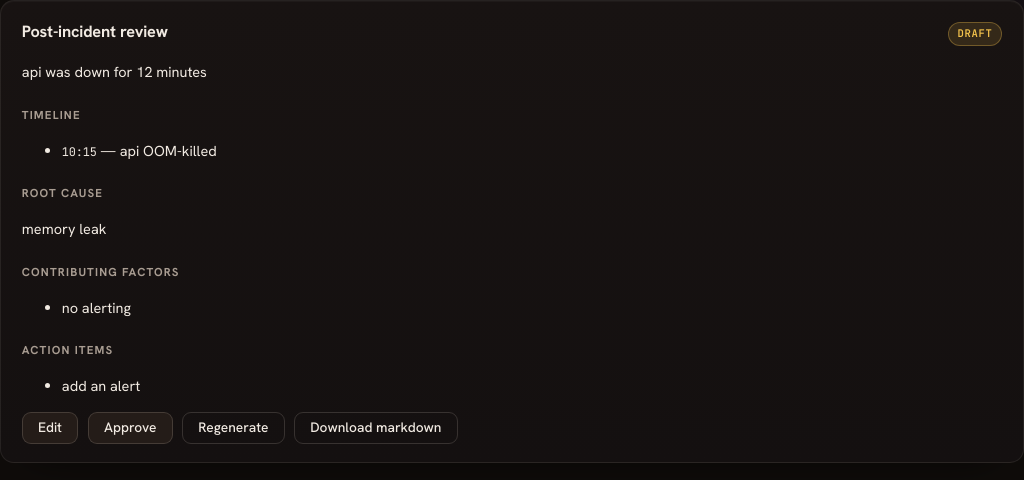
Test: ReviewPanel › approves the review and disables edit/approve afterwards
The image size is (1024, 480).
Click the button "Approve".
click(130, 428)  # box [88, 412, 173, 444]
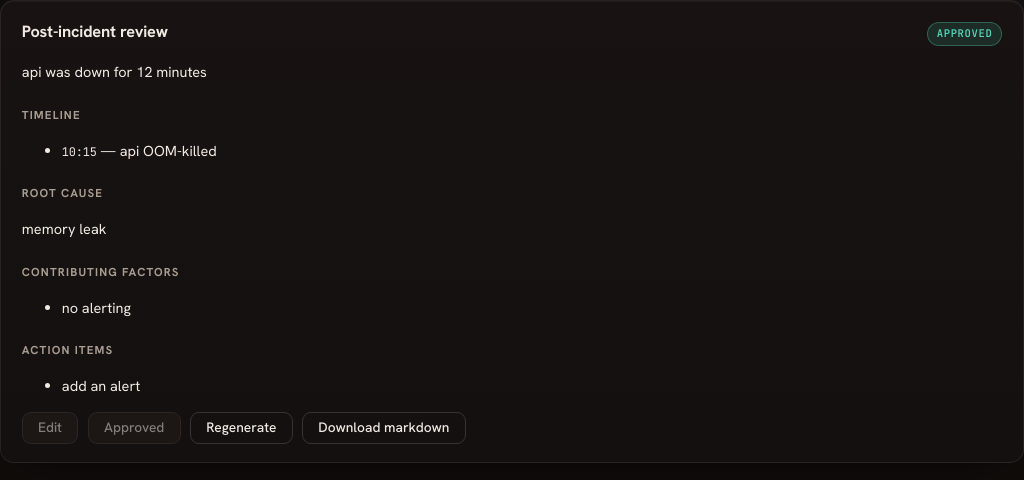
Now the text "approved" is shown, box [927, 22, 1002, 46]
Now the button "Edit" is disabled, box [22, 412, 78, 444]
